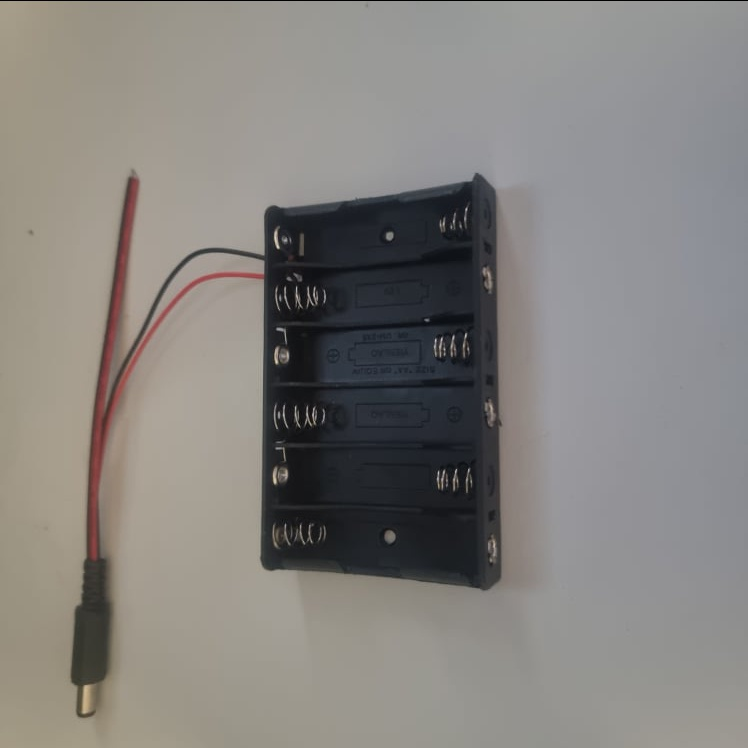BATTERY BOX: (259, 170, 505, 587)
